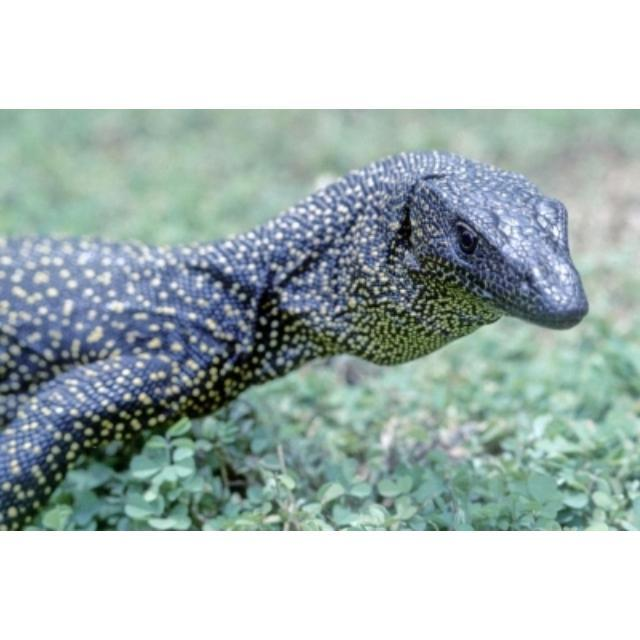KomodoDragon: (0, 146, 588, 528)
